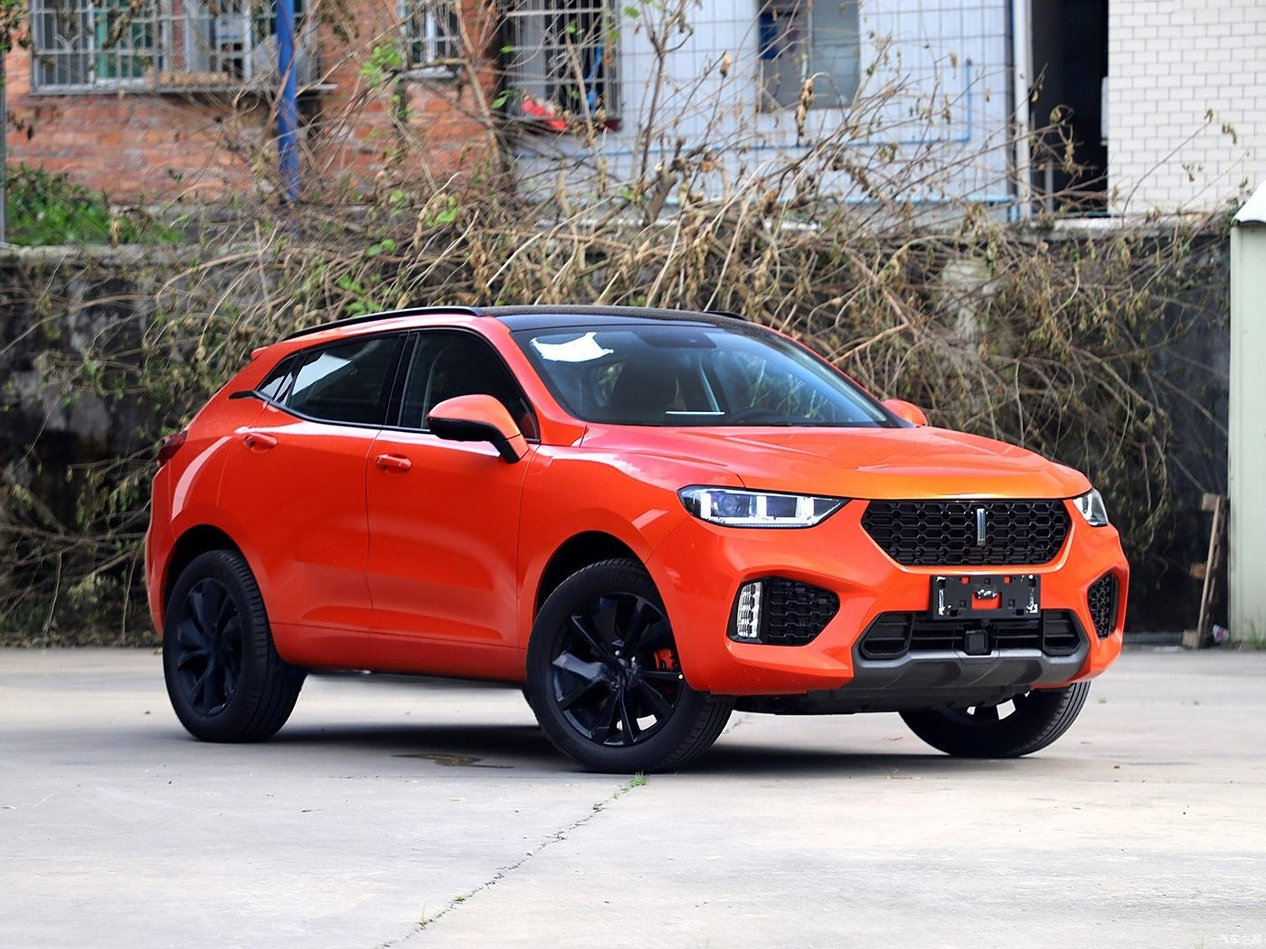WEY: (978, 510, 985, 546)
